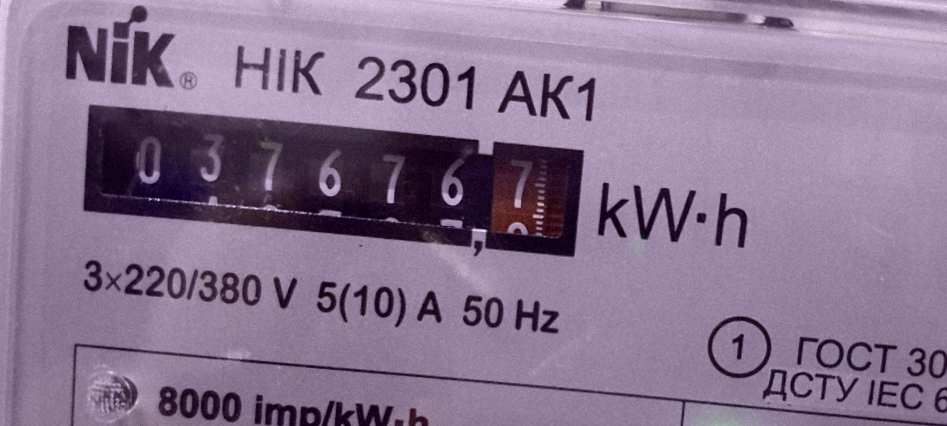0: (130, 130, 168, 187)
3: (193, 127, 226, 186)
6: (311, 142, 348, 199), (435, 152, 469, 209)
7: (373, 149, 408, 210), (251, 135, 286, 194), (503, 154, 535, 212)
screen: (62, 86, 601, 276)
